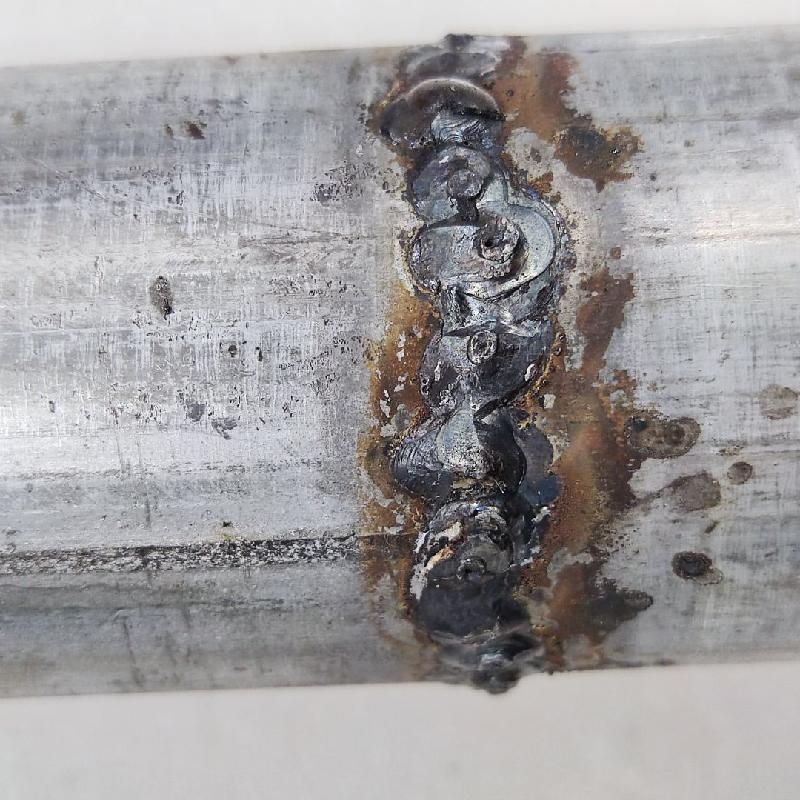Weld: (367, 80, 515, 156)
wrong_size: (397, 152, 536, 695)
